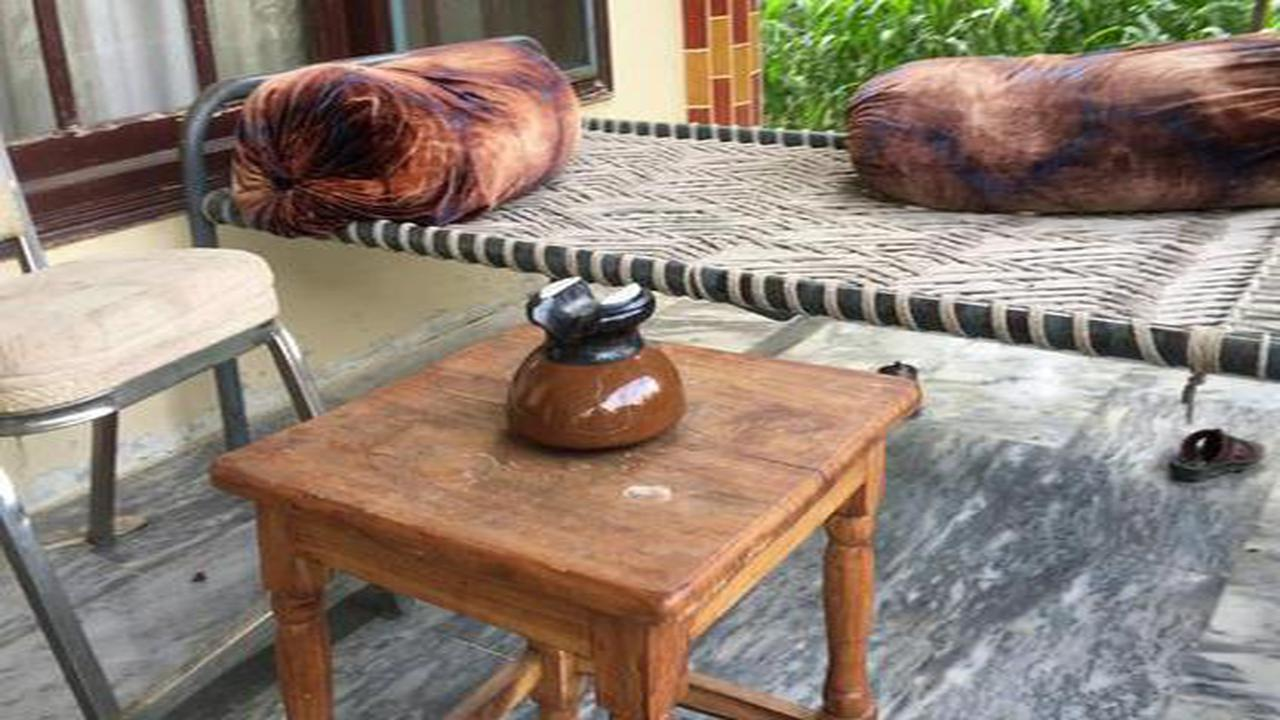insulator_pin: (493, 264, 699, 457)
